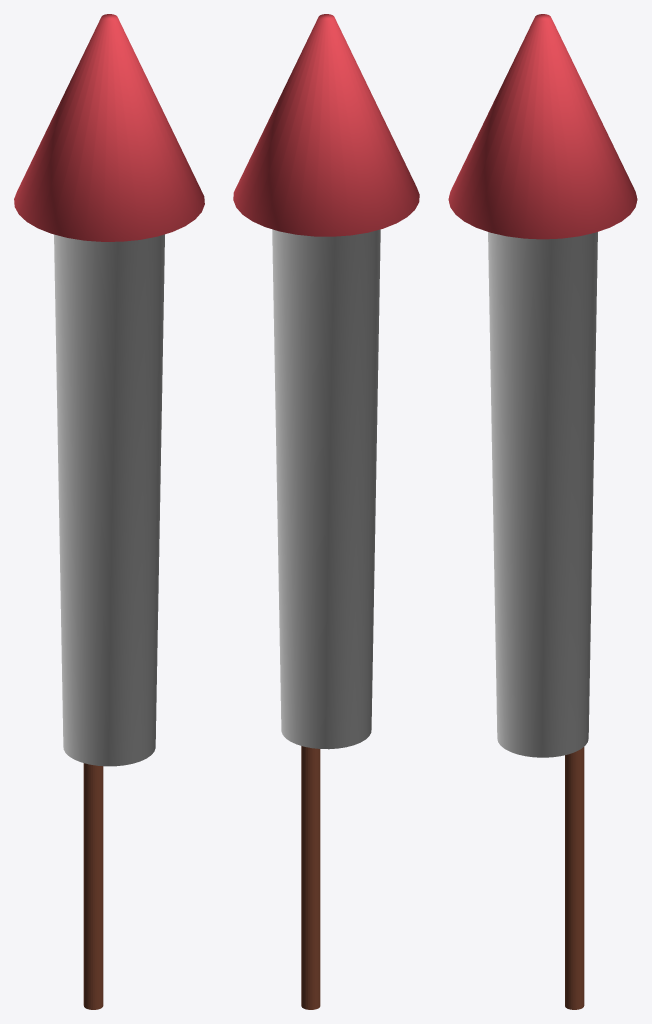
The model's file is firework.glb.
3 renders of one model, left to right at view 1: azimuth 30°, elevation 25°; view 2: azimuth 150°, elevation 25°; view 3: azimuth 270°, elevation 25°, orthographic. The views are drawn at different scales.
Visible parts, largest first — view 1: Cylinder, Cylinder.001; view 2: Cylinder, Cylinder.001; view 3: Cylinder, Cylinder.001.
Boxes of the visible parts, left/top/right/bottom form: Cylinder: left=14, top=14, right=204, bottom=766; Cylinder.001: left=83, top=763, right=103, bottom=1009; Cylinder: left=233, top=14, right=419, bottom=749; Cylinder.001: left=301, top=746, right=320, bottom=1009; Cylinder: left=448, top=14, right=637, bottom=757; Cylinder.001: left=565, top=747, right=584, bottom=1009.
Bounding box in the file's own units: 1.62 × 9.34 × 1.62.
